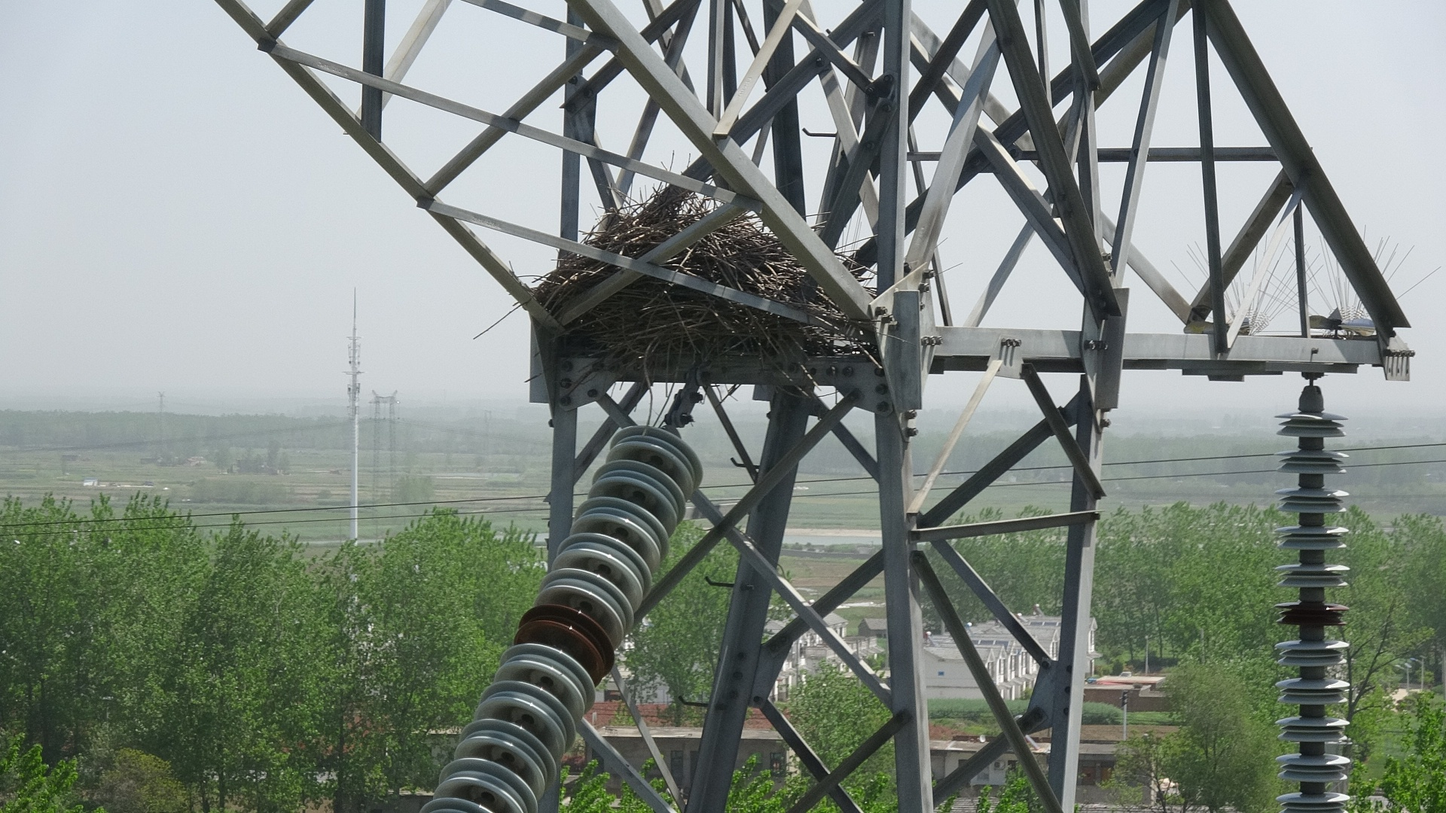insulator: (412, 421, 712, 813), (1263, 403, 1361, 813)
